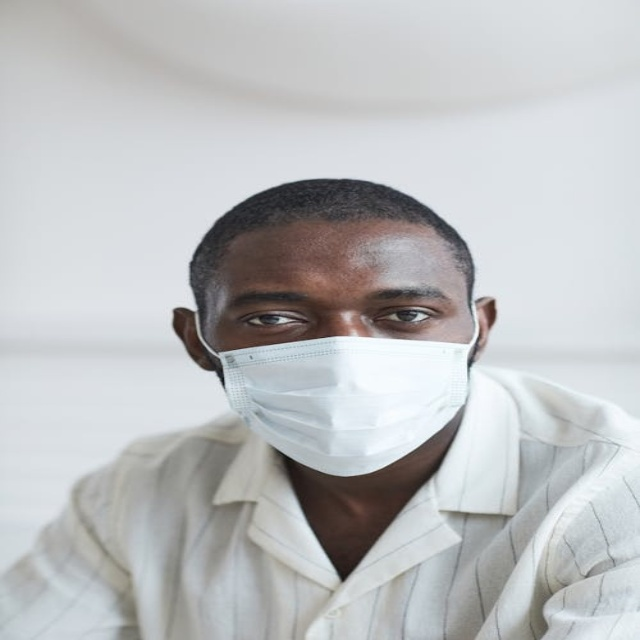Mascara: (206, 305, 479, 474)
Sin_gafas: (375, 306, 439, 324), (240, 311, 306, 327)
